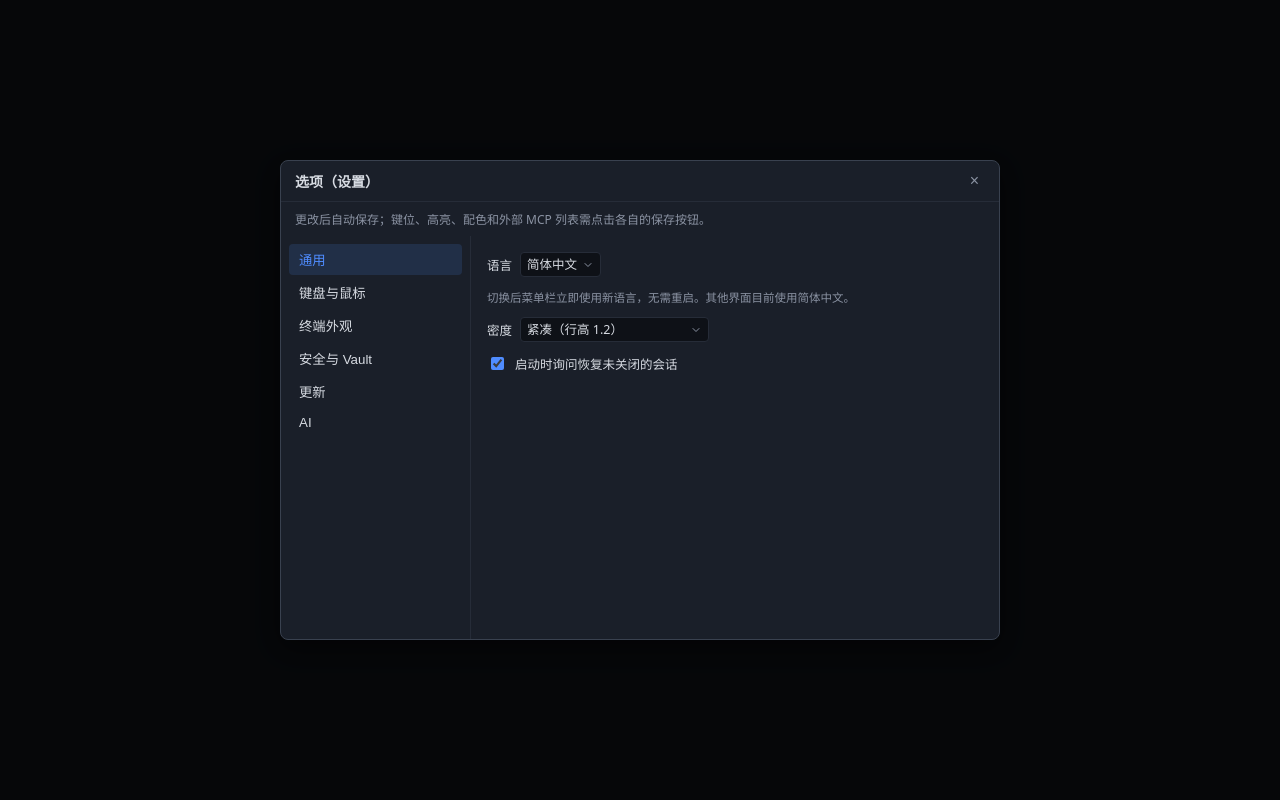
Test: SettingsDialog 设置回读 › 重启后 Vault 自动锁定显示库里的 30，而非控件初值「从不」
The width and height of the screenshot is (1280, 800).
Click the tab "安全与 Vault" at (376, 358), box [289,343,462,374]
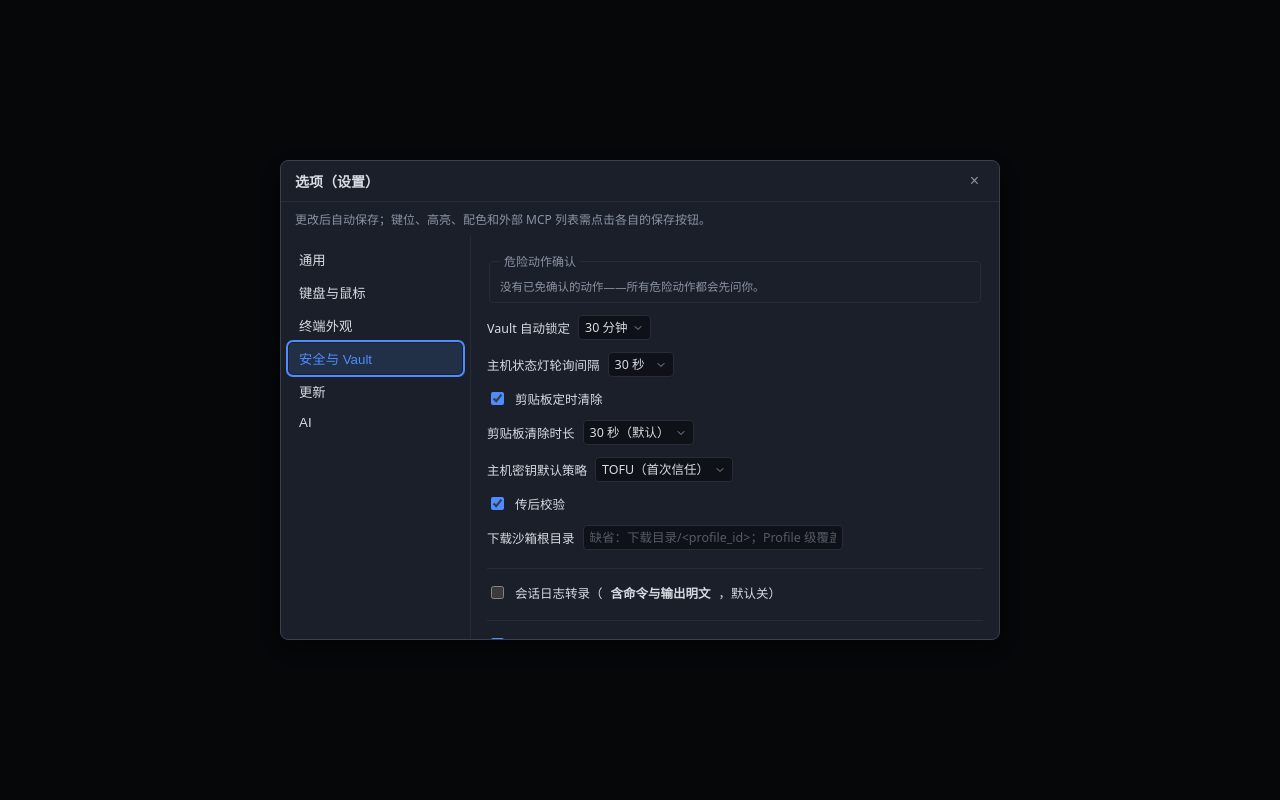
Result: the dropdown with test id "set-auto-lock" shows "30 分钟" at [578,315,651,340]
